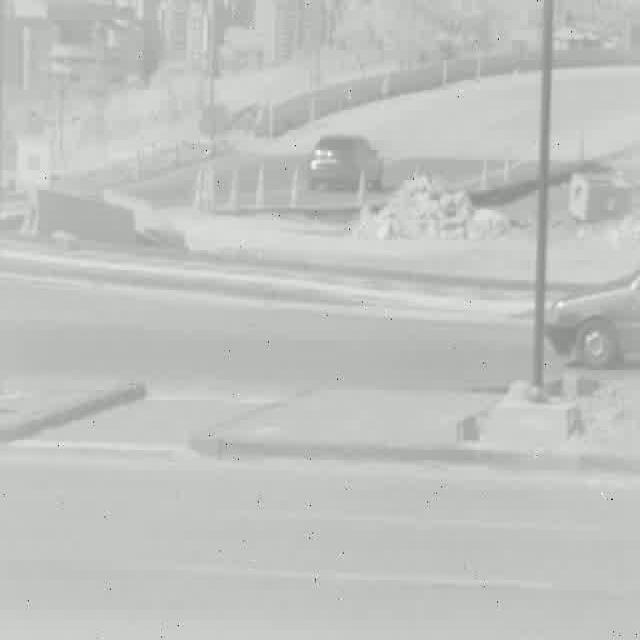Car: (545, 272, 640, 360), (308, 135, 384, 194)
